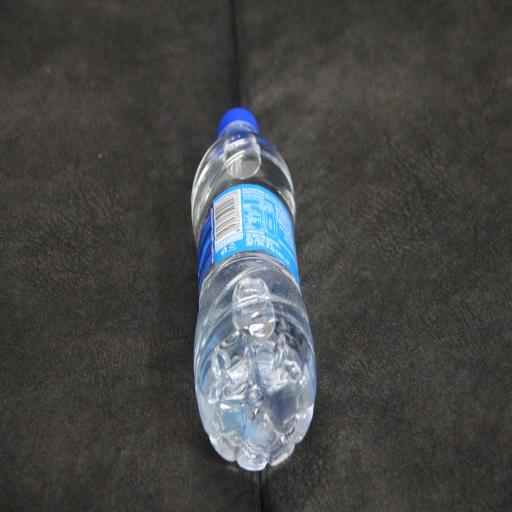Aquafina: (191, 108, 316, 471)
